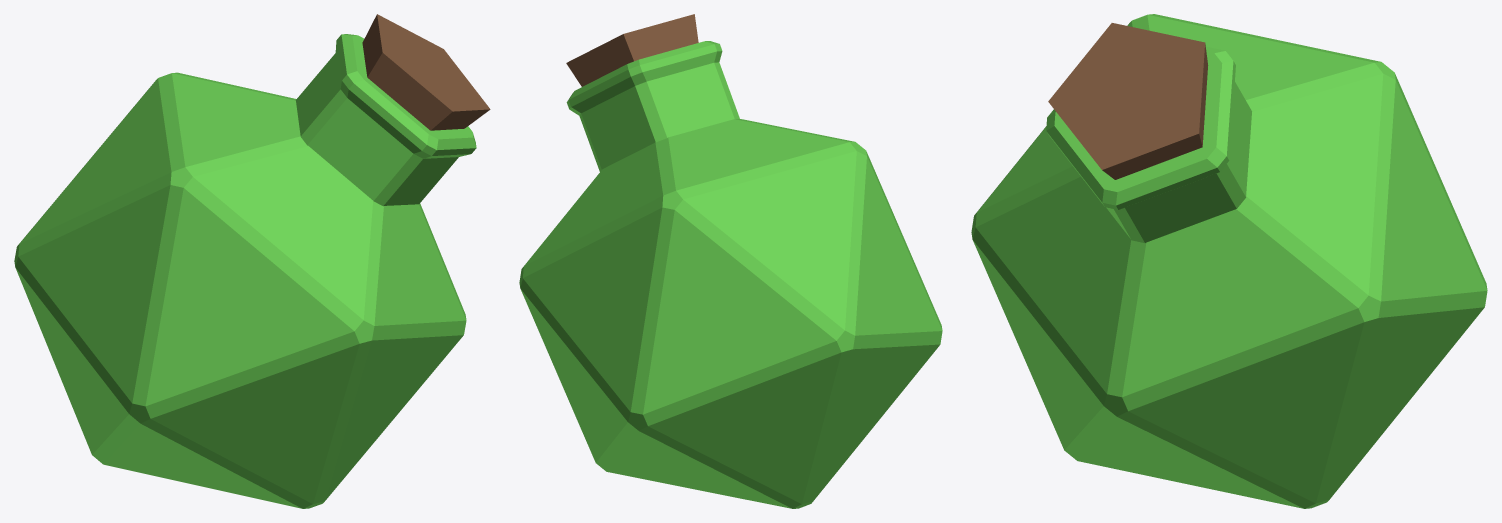
File: Potion_03_Green.fbx
3 renders of one model, left to right at view 1: azimuth 30°, elevation 25°; view 2: azimuth 150°, elevation 25°; view 3: azimuth 270°, elevation 25°, orthographic. The views are drawn at different scales.
Parts seen in each view (by area): view 1: Icosphere.006, Cylinder.040, Cylinder.041; view 2: Icosphere.006, Cylinder.040, Cylinder.041; view 3: Icosphere.006, Cylinder.041, Cylinder.040.
Part boxes in pixels (x1,y1,x2,y2): Icosphere.006: (14,72,466,508); Cylinder.040: (295,34,476,206); Cylinder.041: (362,14,490,130); Icosphere.006: (519,119,942,508); Cylinder.040: (566,41,739,171); Cylinder.041: (566,14,698,86); Icosphere.006: (971,14,1487,508); Cylinder.041: (1048,23,1208,179); Cylinder.040: (1046,46,1251,242).
Bounding box in the file's own units: 22.22 × 24.31 × 23.44.
